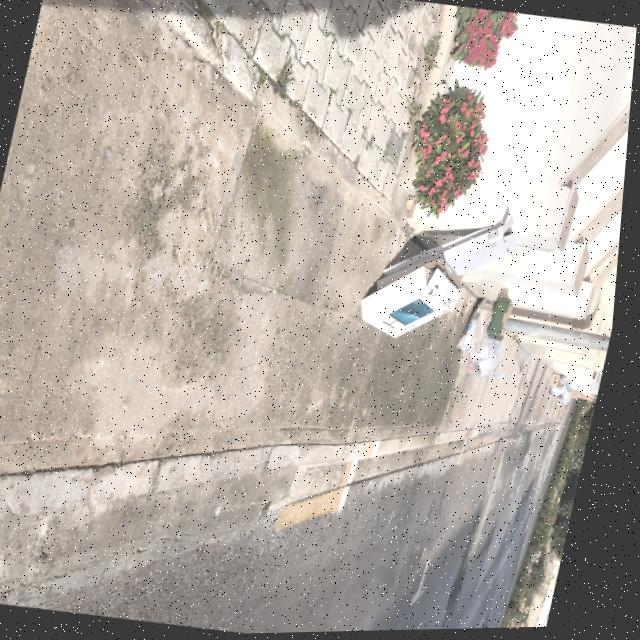Organic Waste -White Bag-: (465, 300, 521, 389)
Other: (354, 213, 516, 367)
